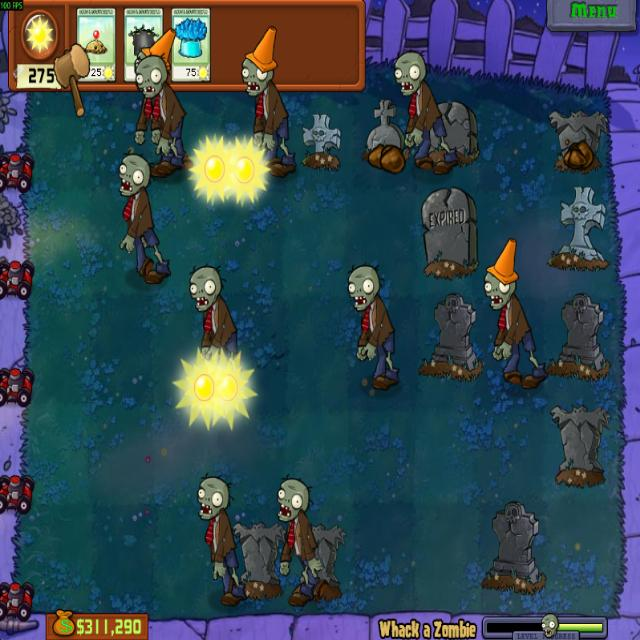conehead: (240, 25, 278, 98), (483, 238, 519, 312), (135, 30, 177, 70)
grave: (477, 498, 548, 593), (418, 183, 480, 280), (416, 293, 484, 381), (546, 186, 612, 274), (547, 404, 615, 487), (546, 293, 610, 380), (416, 98, 480, 168), (291, 520, 347, 598), (230, 523, 286, 596), (548, 105, 608, 170), (360, 96, 409, 168), (298, 111, 343, 172)
gravebuster: (123, 7, 163, 82)
zombie: (187, 263, 226, 314), (345, 262, 384, 310), (194, 473, 233, 521), (274, 474, 311, 524), (392, 49, 429, 98), (114, 152, 151, 196), (136, 54, 168, 99)
